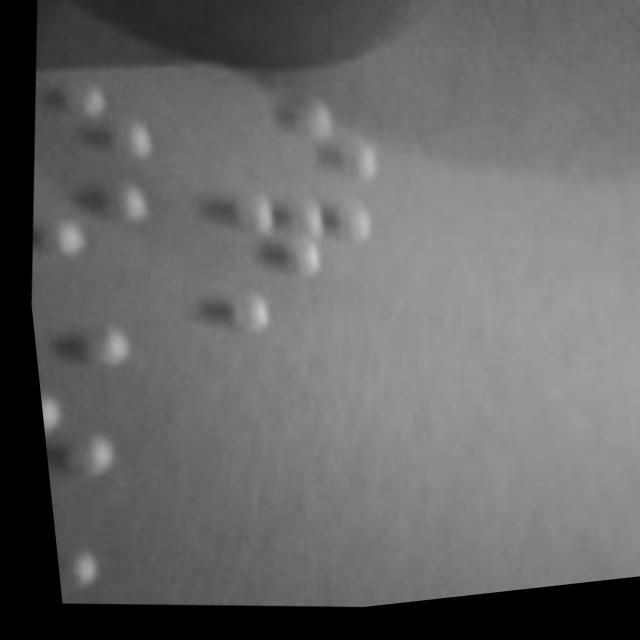braiile: (194, 172, 390, 305), (199, 79, 390, 202), (23, 63, 167, 176), (19, 164, 159, 280), (22, 265, 139, 383), (32, 382, 117, 489), (40, 489, 105, 599)
